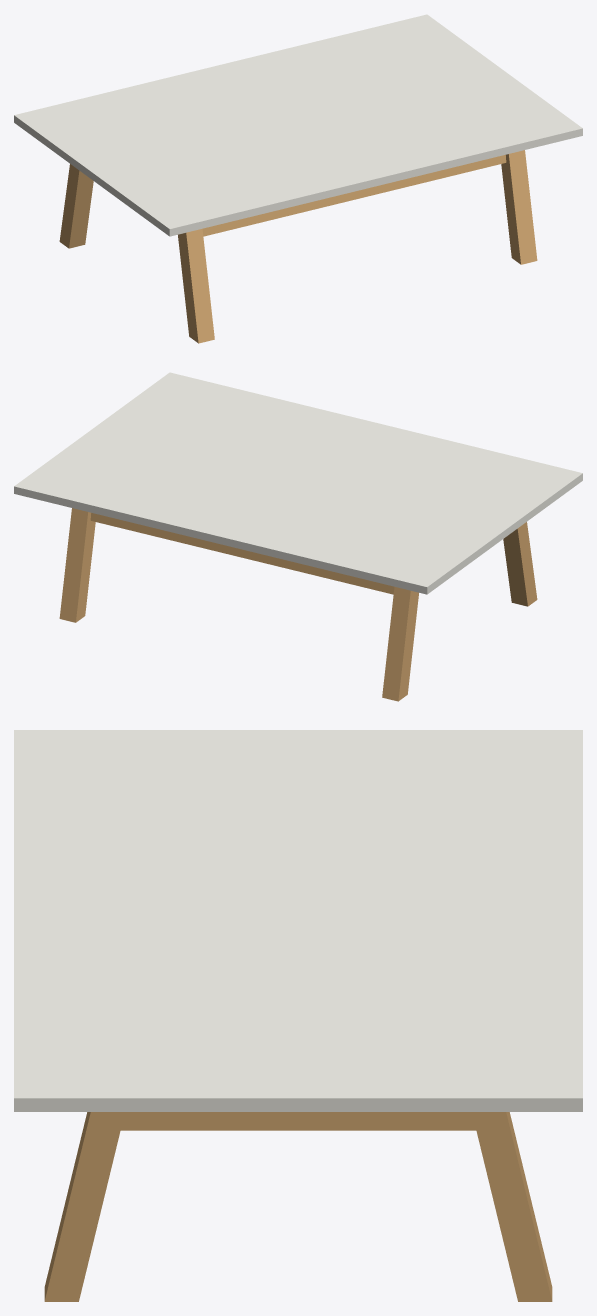
File: simple_table.glb
3 views of the same model, one above another, from view 1: azimuth 30°, elevation 25°; view 2: azimuth 150°, elevation 25°; view 3: azimuth 270°, elevation 25° (orthographic). The views are drawn at different scales.
Visible parts, largest first — view 1: Material2 (×2); view 2: Material2 (×2); view 3: Material2 (×2).
Boxes of the visible parts, left/top/right/bottom form: Material2 (×2): left=14, top=14, right=582, bottom=343; Material2 (×2): left=14, top=372, right=582, bottom=701; Material2 (×2): left=14, top=730, right=582, bottom=1301.
Size of the model in its own units: 2.95 by 0.8835 by 1.93.
